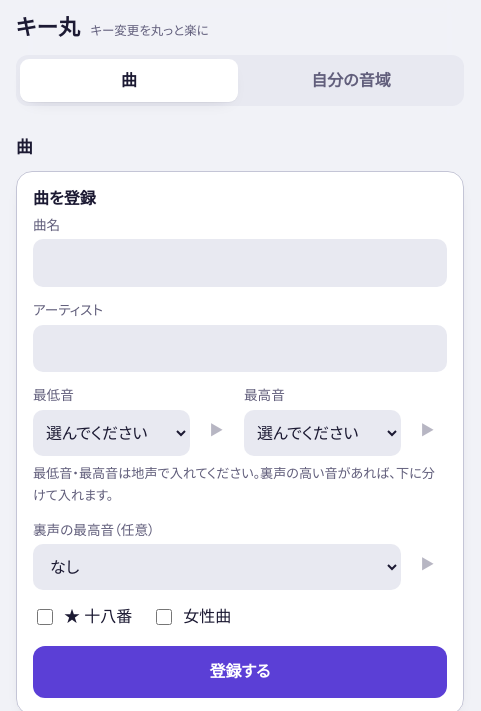
Test: タブ › 音域が登録済みなら曲の画面から始まり、タブで切り替えられる
Expected: the heading "曲" is shown, x1=16 y1=135 x2=33 y2=158
Click the button "自分の音域": click(351, 80) x1=242 y1=58 x2=460 y2=102
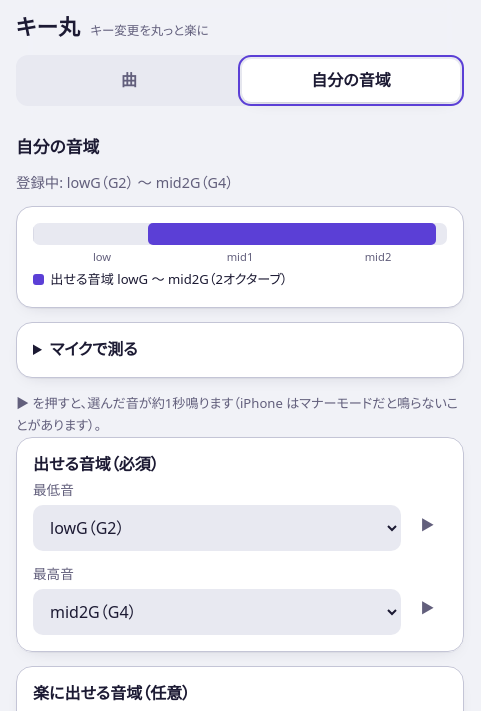
Result: the heading "自分の音域" is shown at x1=16 y1=135 x2=99 y2=158
